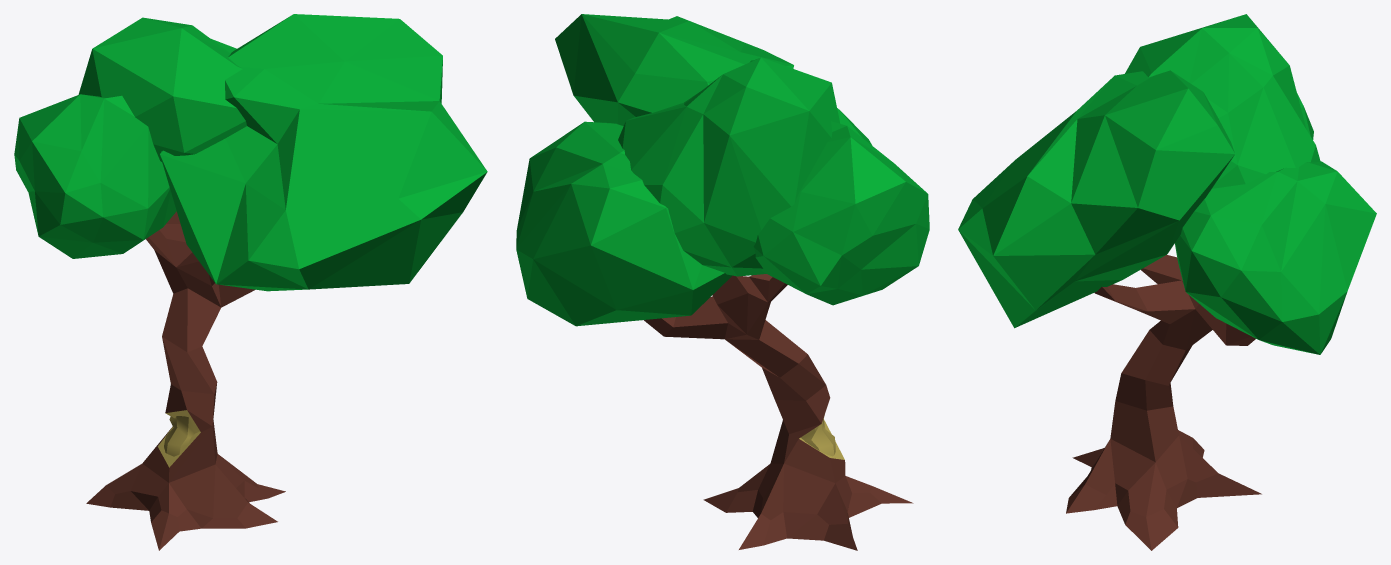
Rendered from TreeB_02.fbx.
3 views of the same model, side by side, from view 1: azimuth 30°, elevation 25°; view 2: azimuth 150°, elevation 25°; view 3: azimuth 270°, elevation 25° (orthographic). The views are drawn at different scales.
Visible parts, largest first — view 1: TreeB_02; view 2: TreeB_02; view 3: TreeB_02.
Part boxes in pixels (x1=…): TreeB_02: x1=14, y1=14, x2=487, y2=550; TreeB_02: x1=516, y1=14, x2=929, y2=550; TreeB_02: x1=958, y1=14, x2=1376, y2=550.
Size of the model in its own units: 9.01 by 10.57 by 8.32.
